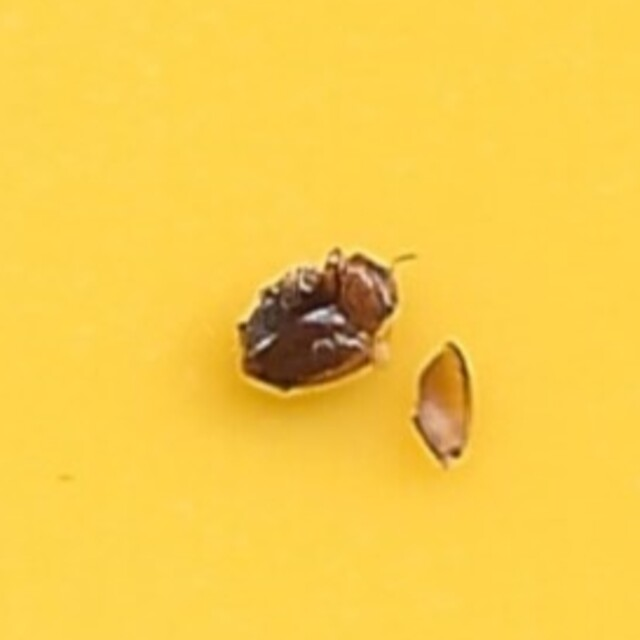Coleoptera: (234, 247, 406, 393)
